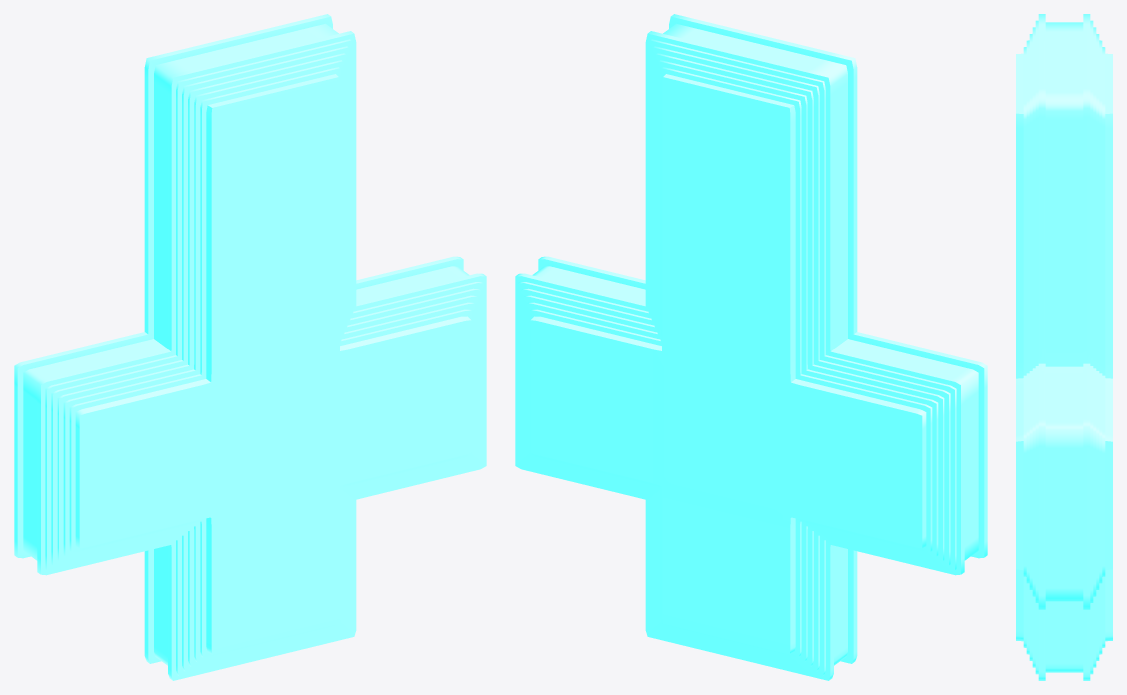
The model's file is cross.glb.
3 views of the same model, side by side, from view 1: azimuth 30°, elevation 25°; view 2: azimuth 150°, elevation 25°; view 3: azimuth 270°, elevation 25° (orthographic). The views are drawn at different scales.
Parts seen in each view (by area): view 1: Glowing_Cross; view 2: Glowing_Cross; view 3: Glowing_Cross.
Boxes of the visible parts, x1=… form: Glowing_Cross: x1=14, y1=14, x2=486, y2=680; Glowing_Cross: x1=515, y1=14, x2=987, y2=680; Glowing_Cross: x1=1016, y1=14, x2=1112, y2=680.
Size of the model in its own units: 0.8018 by 1.04 by 0.1564.
